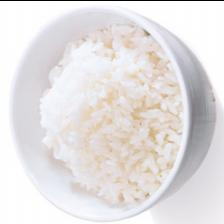rice: (38, 22, 182, 204)
